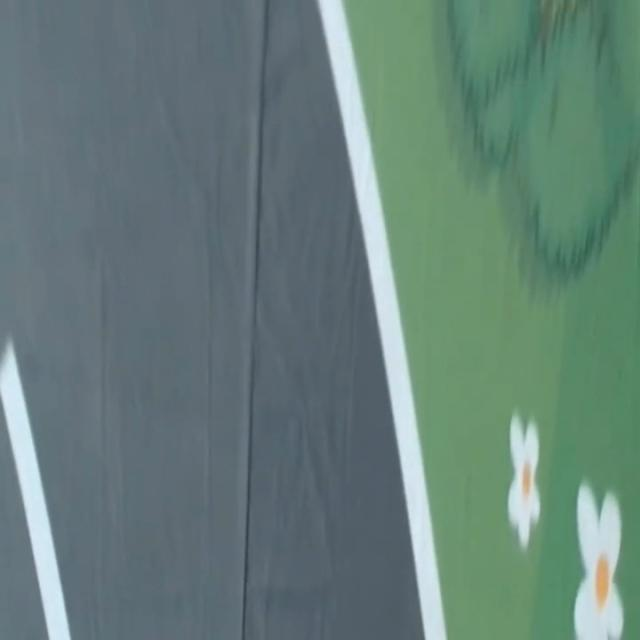center: (0, 340, 71, 639)
right: (318, 0, 446, 639)
